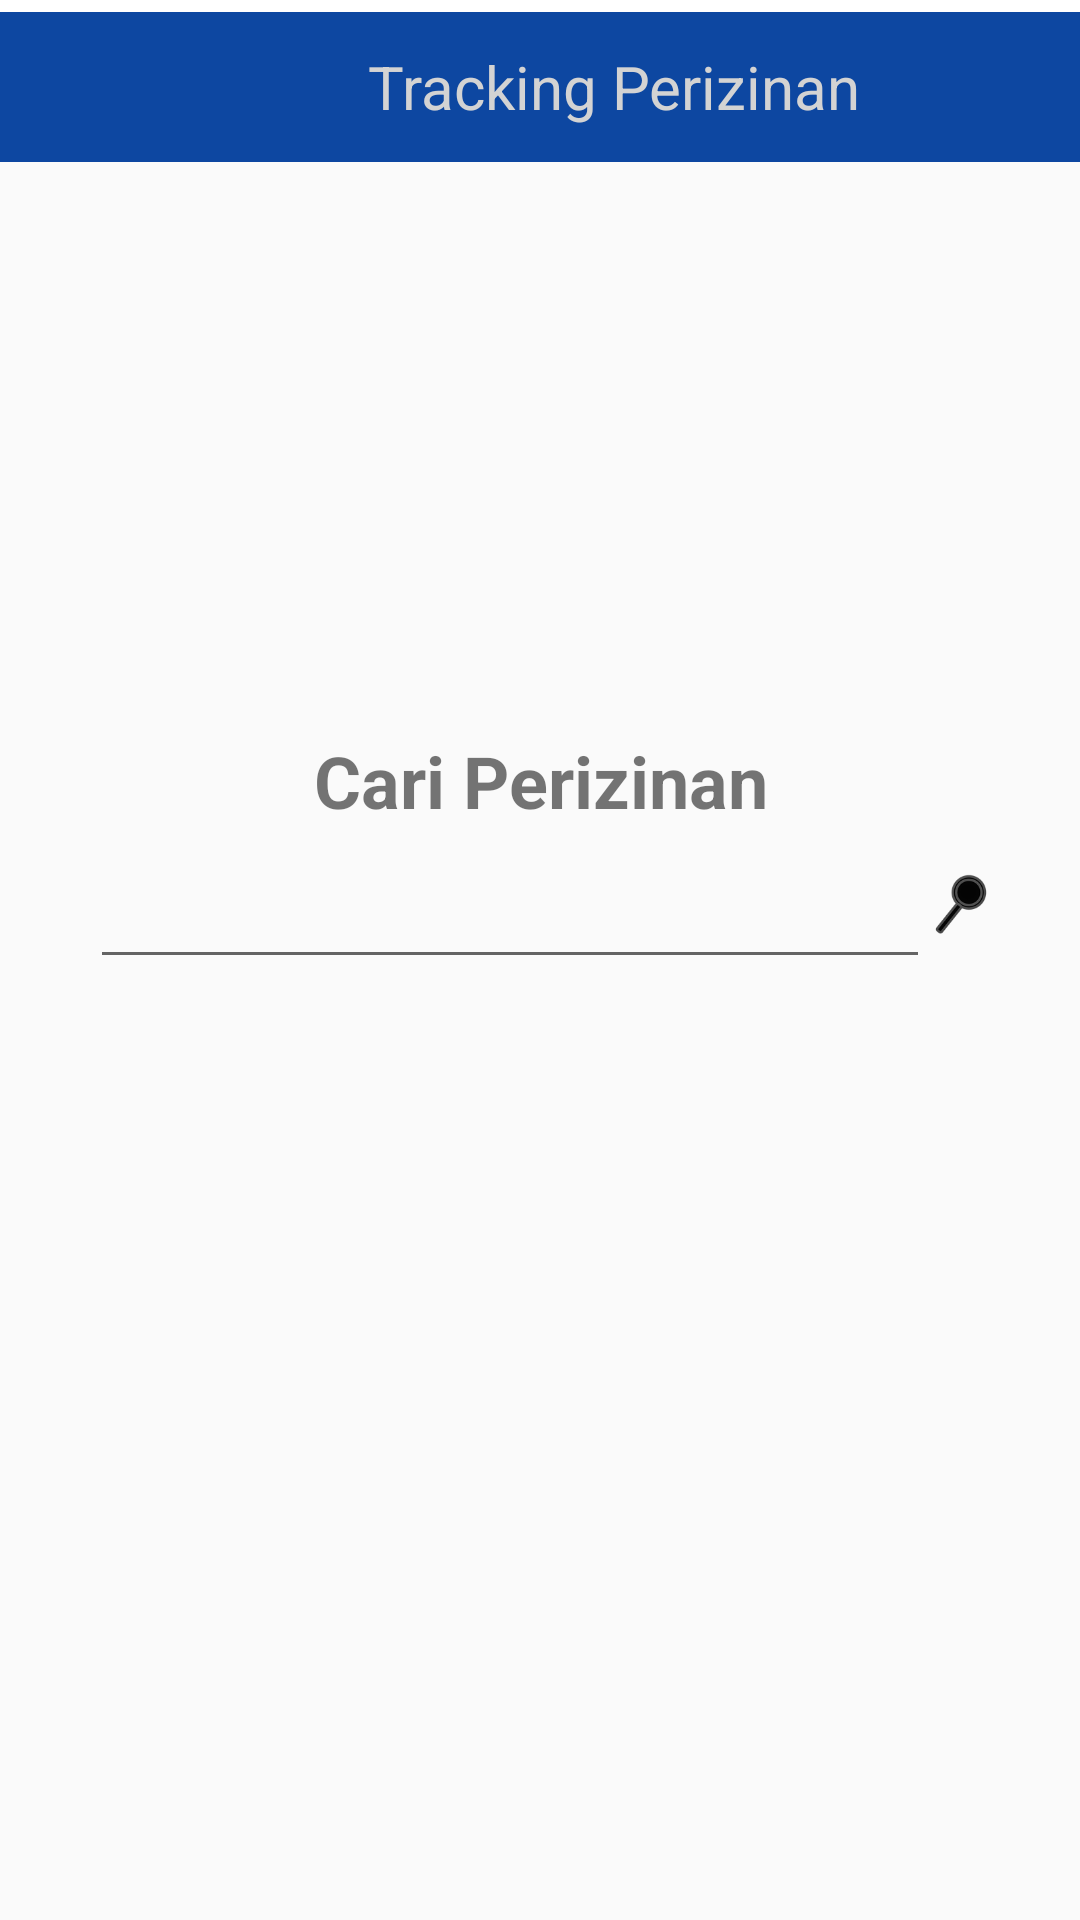

Point at icon controls on the screen. Image size 1080w x 1920h, points as (x=x, y=y).
searchings: (x=961, y=904)
